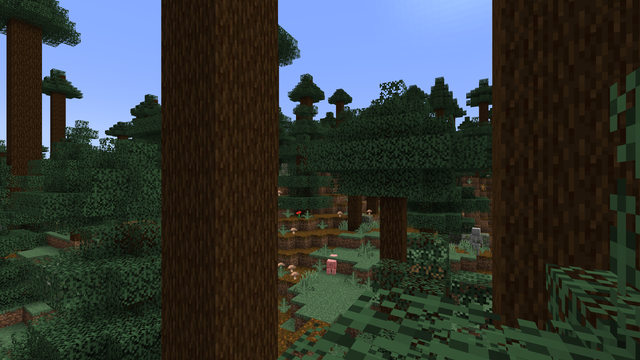cochons: (323, 258, 337, 274)
squelettes: (471, 227, 480, 256)
